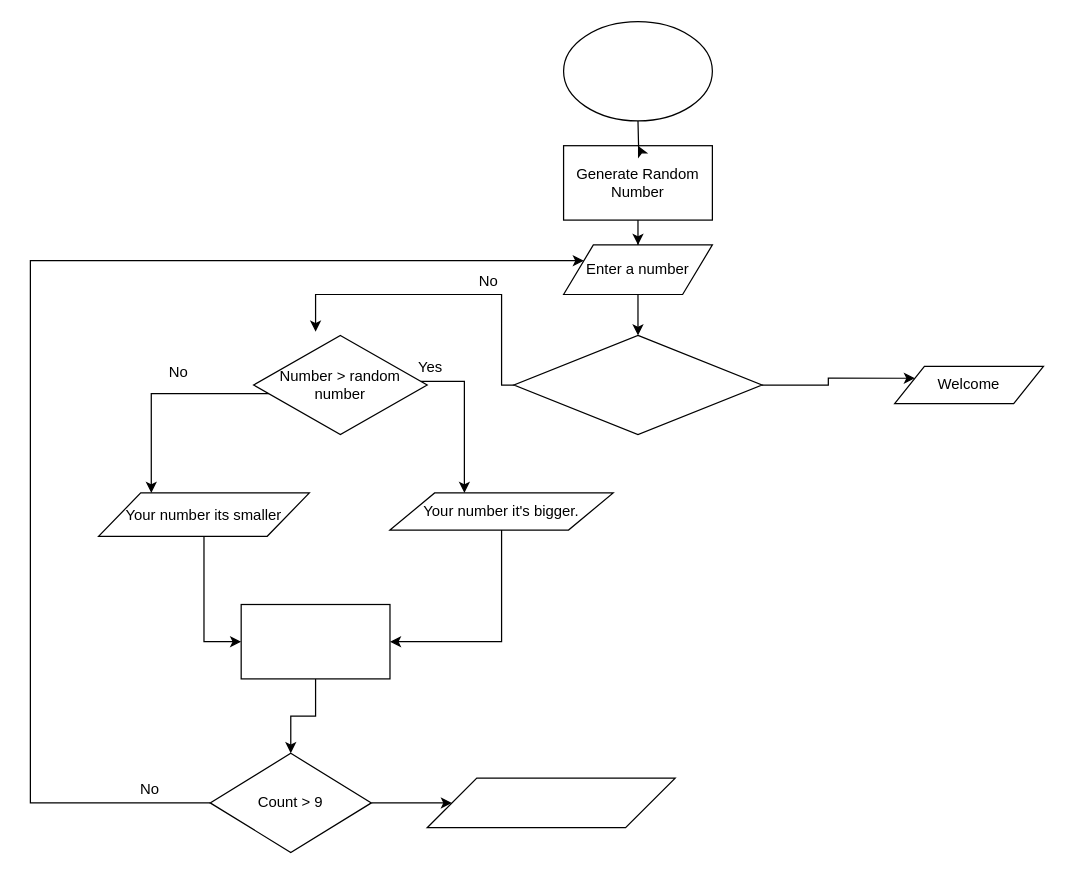
The diagram is 1065 pixels wide and 874 high, and some of its shapes have lost their labels. The centre of each missing label's shape, as x and y in pixels:
"Bye, you can't access" goes at [550,802].
"Count +1" goes at [315,641].
"number == random number" goes at [637,384].
"Start" goes at [637,70].
